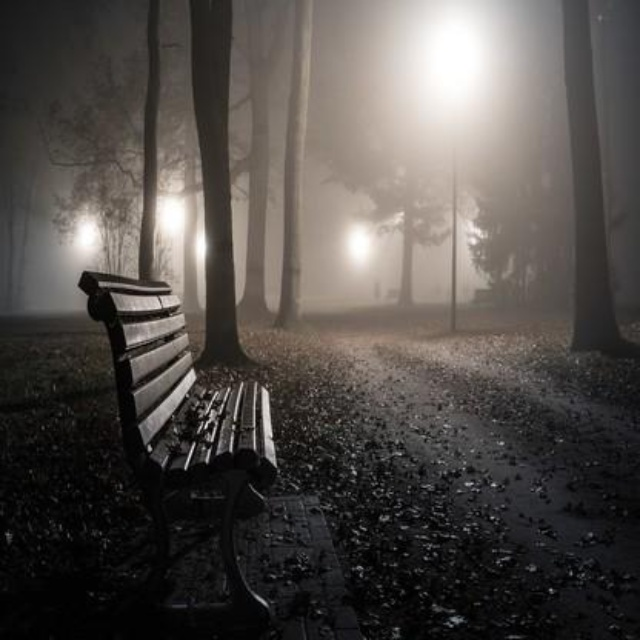obstacle: (71, 251, 303, 625)
